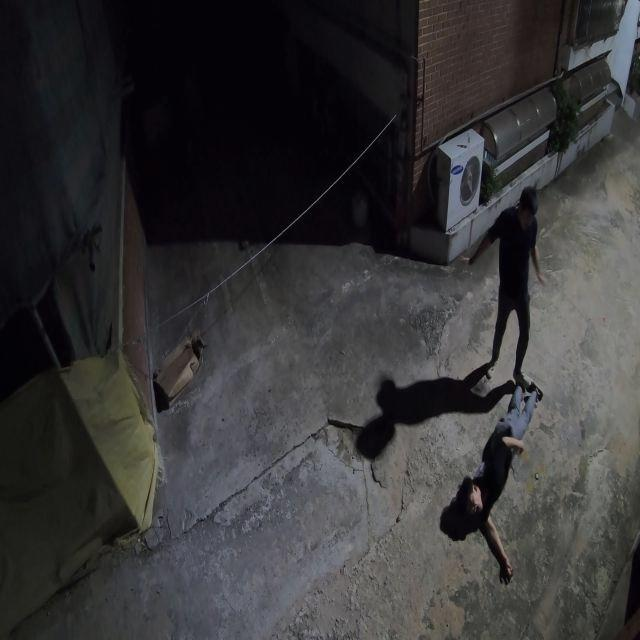fight: (441, 179, 552, 583)
